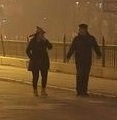person: (66, 24, 102, 97), (26, 27, 52, 97)
